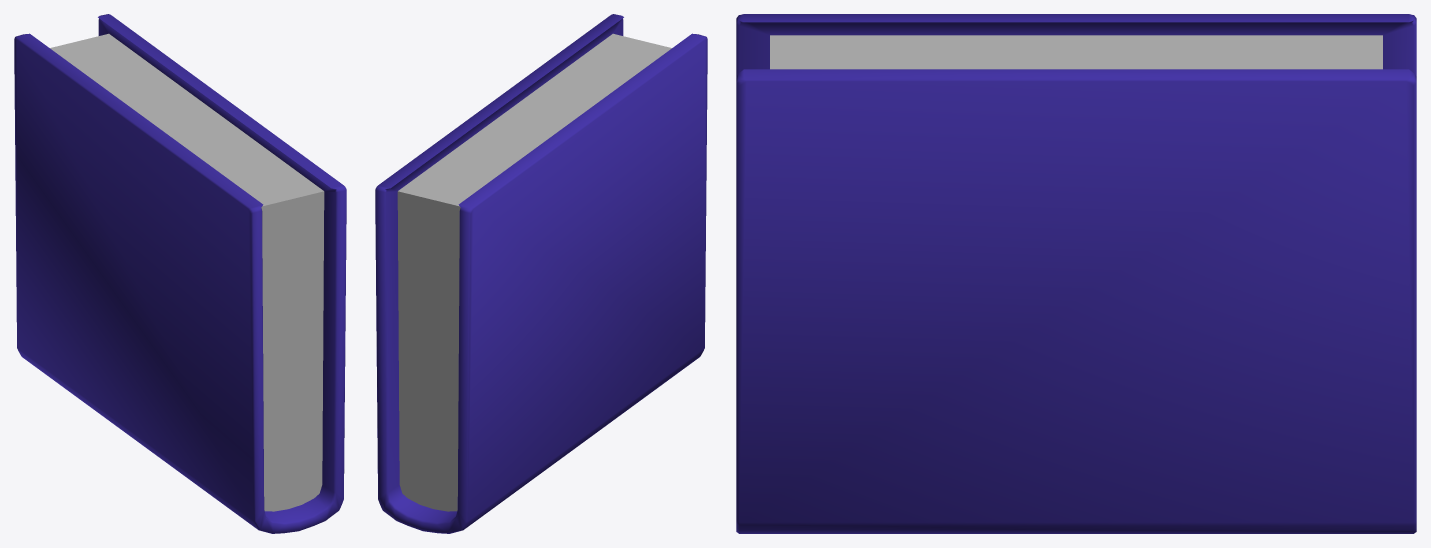
File: Book_Close.fbx
3 renders of one model, left to right at view 1: azimuth 30°, elevation 25°; view 2: azimuth 150°, elevation 25°; view 3: azimuth 270°, elevation 25°, orthographic. The views are drawn at different scales.
Visible parts, largest first — view 1: Book_Close; view 2: Book_Close; view 3: Book_Close.
Part boxes in pixels (box(x1,y1,x2,y2)): Book_Close: box(14, 14, 346, 533); Book_Close: box(375, 14, 707, 533); Book_Close: box(736, 14, 1416, 533).
Size of the model in its own units: 8.35 by 27.74 by 36.
